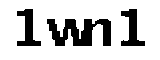1: (14, 5, 45, 49), (118, 5, 147, 49)
n: (84, 15, 115, 50)
w: (44, 12, 84, 48)
